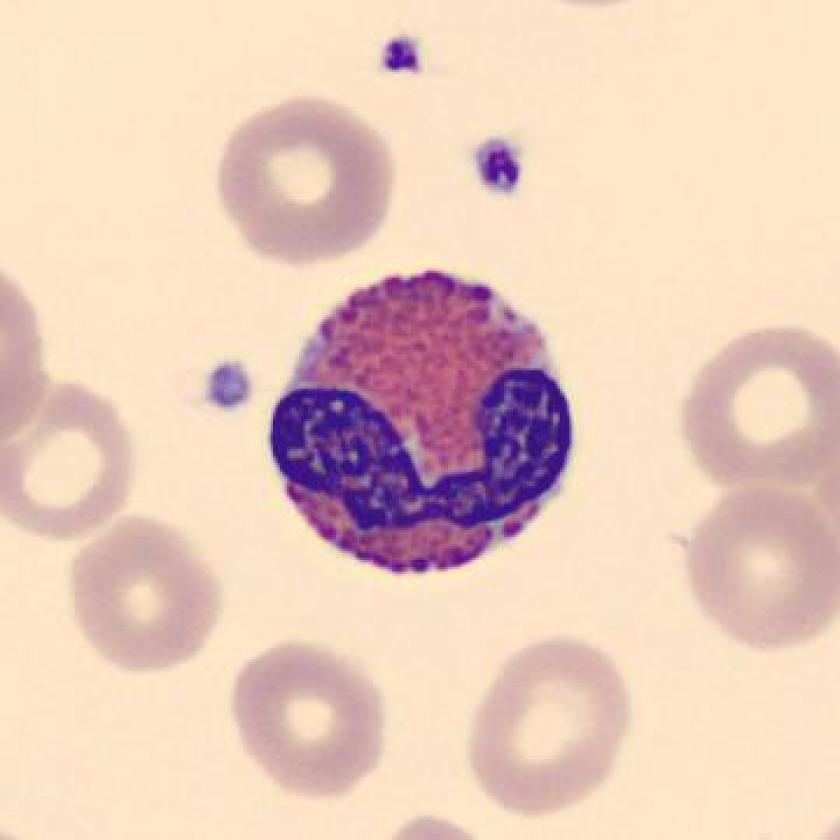eosinophil: (258, 256, 589, 589)
